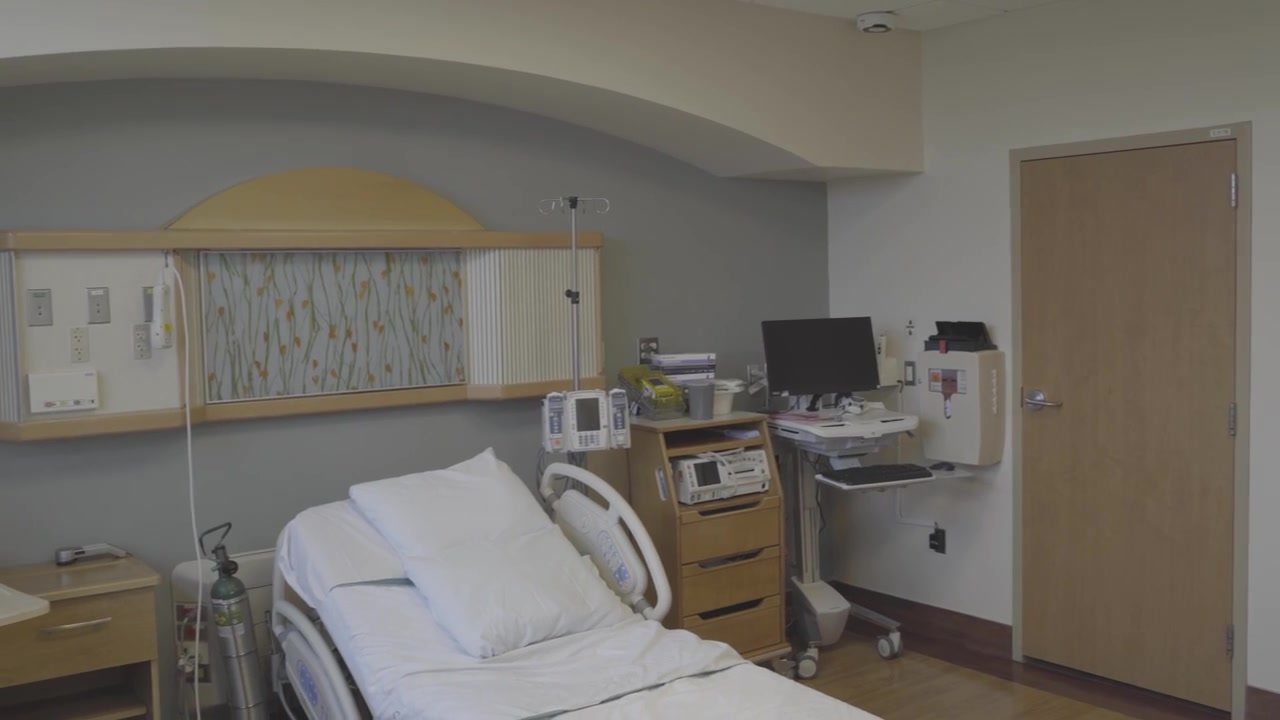bedrail: (539, 462, 672, 626), (272, 597, 367, 720)
bedside_table: (630, 408, 792, 665), (1, 545, 162, 720)
computer: (761, 316, 882, 394)
dispenser: (917, 349, 1006, 465)
door_handle: (1020, 390, 1062, 412)
handle: (43, 615, 117, 636)
hospital_bed: (270, 444, 886, 720)
infusion_pump: (542, 390, 630, 451)
iv_pole: (538, 196, 604, 389)
keyboard: (823, 465, 932, 487)
mouse: (929, 460, 957, 471)
